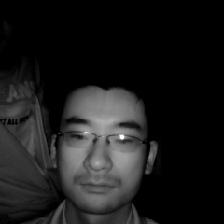normal: (44, 72, 169, 218)
